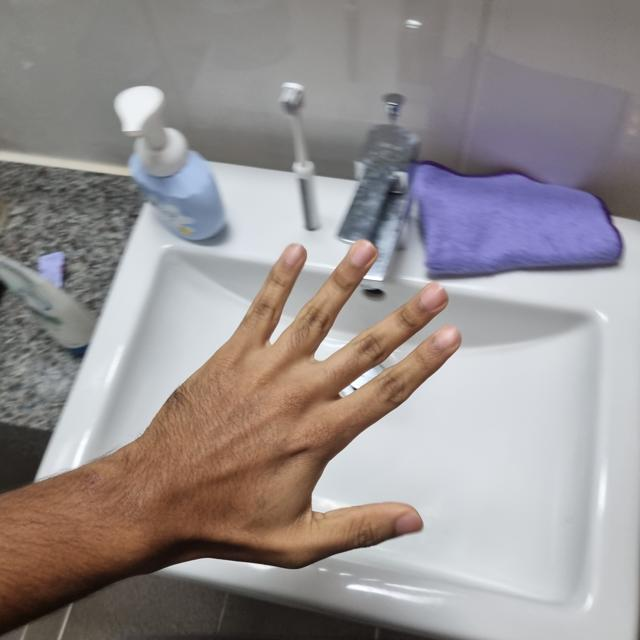Paper: (130, 241, 453, 562)
